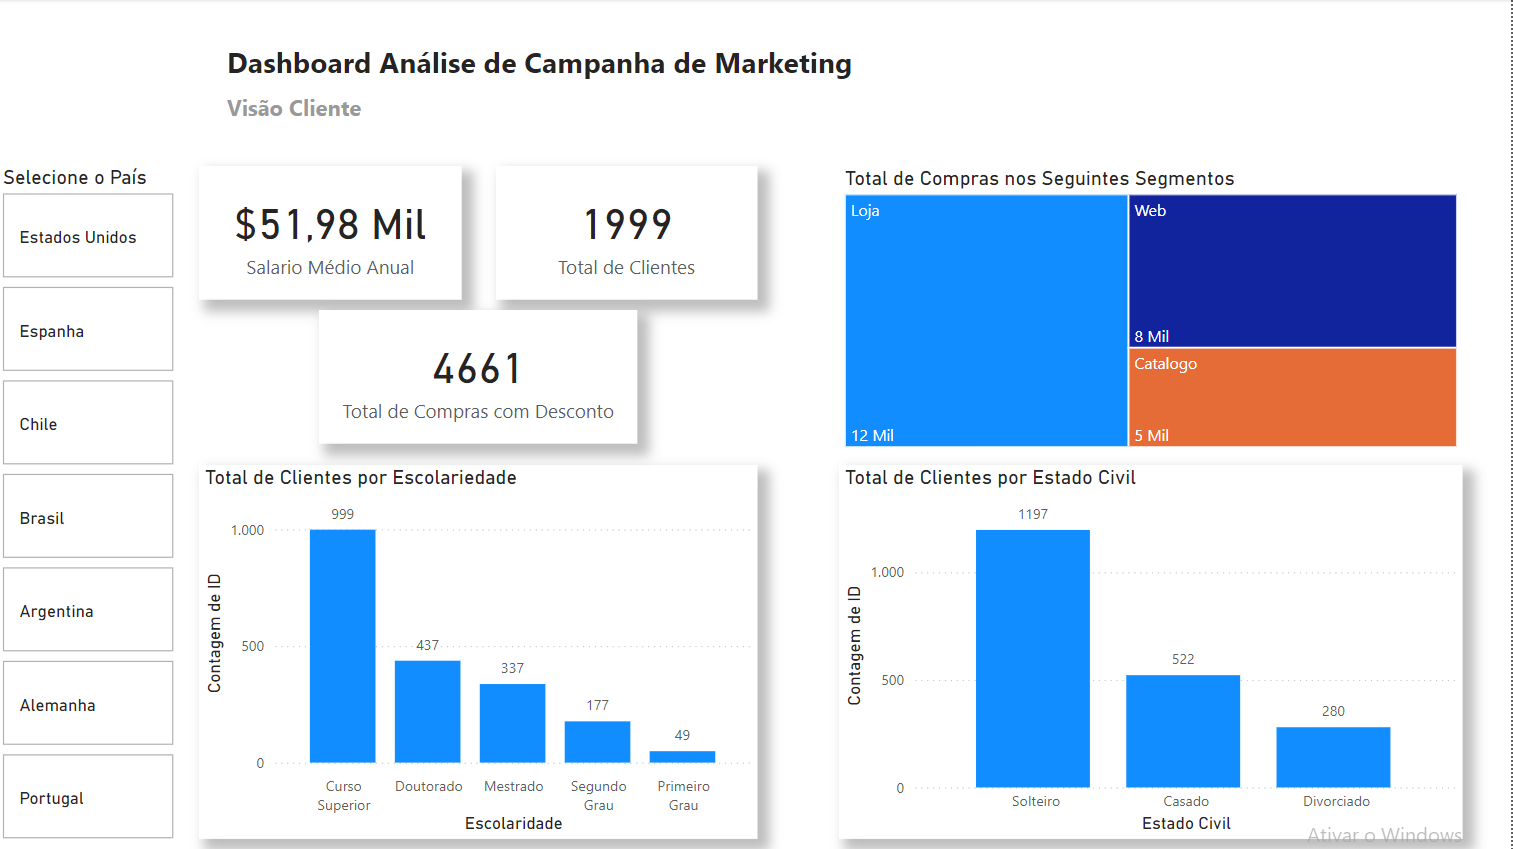

What the dashboard file says about the page in this screenshot:
{"tool":"powerbi","page":{"name":"Visão do Cliente","canvas":[1280,720],"ordinal":0},"visuals":[{"type":"card","fields":{"Values":["Avg(dados_marketing.Salario Anual)"]},"box":[170.6,141.1,221.9,112.9],"z":0},{"type":"clusteredColumnChart","title":"Total de Clientes por Escolariedade","fields":{"Category":["dados_marketing.Escolaridade"],"Y":["CountNonNull(dados_marketing.ID)"]},"box":[170.6,393.7,472,315.5],"z":1000},{"type":"clusteredColumnChart","title":"Total de Clientes por Estado Civil","fields":{"Y":["CountNonNull(dados_marketing.ID)"],"Category":["dados_marketing.Estado Civil"]},"box":[711.8,393.7,527.1,315.5],"z":2000},{"type":"advancedSlicerVisual","title":"Selecione o País","fields":{"Values":["dados_marketing.Pais"]},"box":[0,140.5,154.7,580.1],"z":3000},{"type":"card","fields":{"Values":["CountNonNull(dados_marketing.ID)"]},"box":[422,141.1,220.6,112.9],"z":4000},{"type":"group","id":"g1","title":"Grupo 1","box":[189.4,31.2,548.1,82.4],"z":5000},{"type":"card","fields":{"Values":["Sum(dados_marketing.Numero de Compras com Desconto)"]},"box":[271.9,262.6,269.3,112.7],"z":9000},{"type":"treemap","title":"Total de Compras nos Seguintes Segmentos","fields":{"Values":["Sum(dados_marketing.Numero de Compras na Loja)","Sum(dados_marketing.Numero de Compras na Web)","Sum(dados_marketing.Numero de Compras via Catalogo)"]},"box":[711.8,141.1,527.1,242.4],"z":10001},{"type":"textbox","box":[189.4,31.2,548.1,42.3],"z":11000,"group":"g1"},{"type":"textbox","box":[189.4,73.5,143.7,40.1],"z":12001,"group":"g1"}]}

Visuals, with their boxes in screenshot pixels (x1, y1, x2, y2), scaled from the page's 1280x720 canvas onto the 1513x849 screenshot:
card - Avg(dados_marketing.Salario Anual): [202,166,464,300]
"Total de Clientes por Escolariedade" clusteredColumnChart: [202,464,760,836]
"Total de Clientes por Estado Civil" clusteredColumnChart: [841,464,1464,836]
"Selecione o País" advancedSlicerVisual: [0,166,183,848]
card - CountNonNull(dados_marketing.ID): [499,166,760,300]
"Grupo 1" group: [224,37,872,134]
card - Sum(dados_marketing.Numero de Compras com Desconto): [321,310,640,443]
"Total de Compras nos Seguintes Segmentos" treemap: [841,166,1464,452]
textbox: [224,37,872,87]
textbox: [224,87,394,134]
